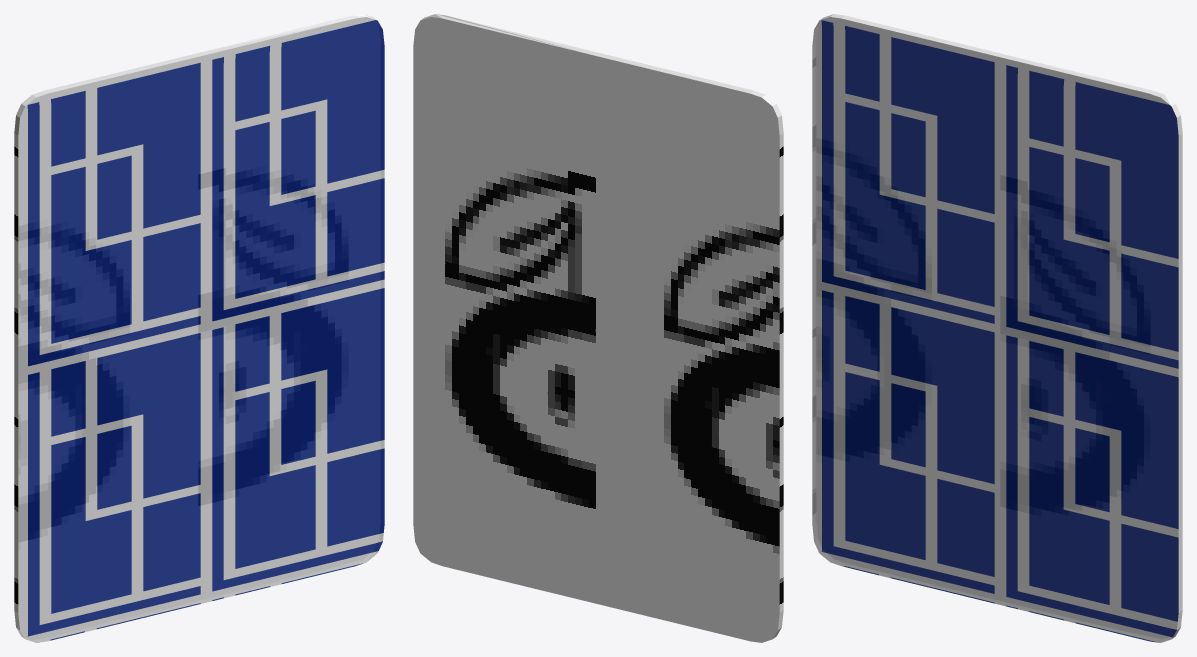
File: esp_card.obj
3 renders of one model, left to right at view 1: azimuth 30°, elevation 25°; view 2: azimuth 150°, elevation 25°; view 3: azimuth 330°, elevation 25°, orthographic.
Visible parts, largest first — view 1: pCube1; view 2: pCube1; view 3: pCube1.
Boxes of the visible parts, bbox=[...] form: pCube1: bbox=[14, 14, 384, 642]; pCube1: bbox=[413, 14, 783, 642]; pCube1: bbox=[812, 14, 1182, 642].
Size of the model in its own units: 84 by 120 by 1.59.
Materials: 2 (2 with a texture image).
